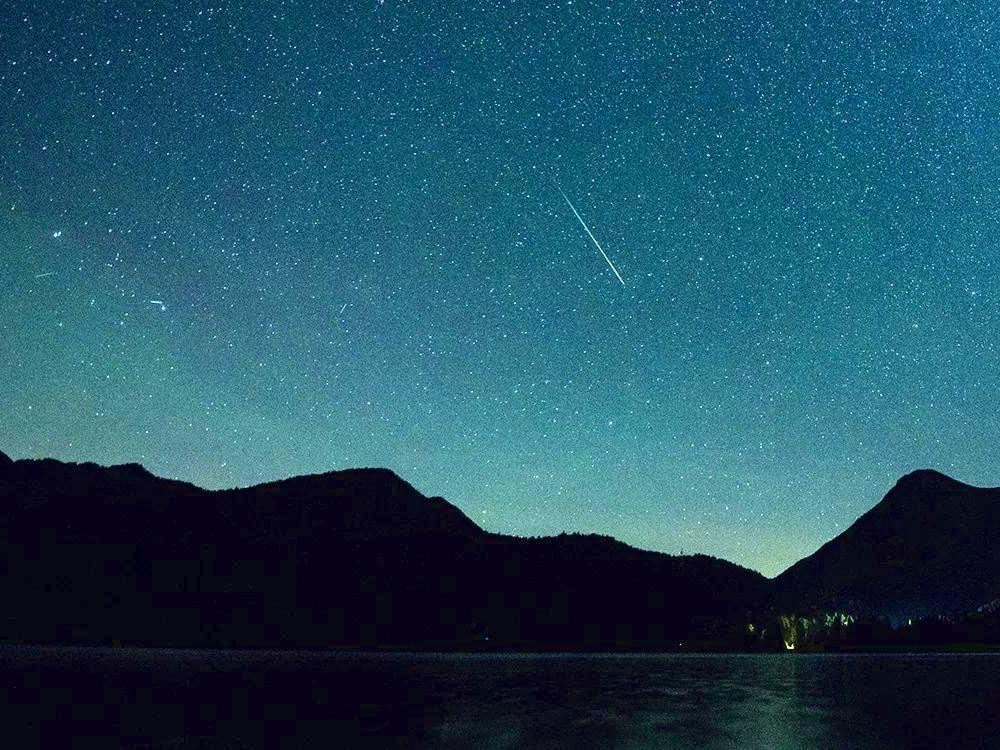meteorite: (540, 169, 635, 293)
